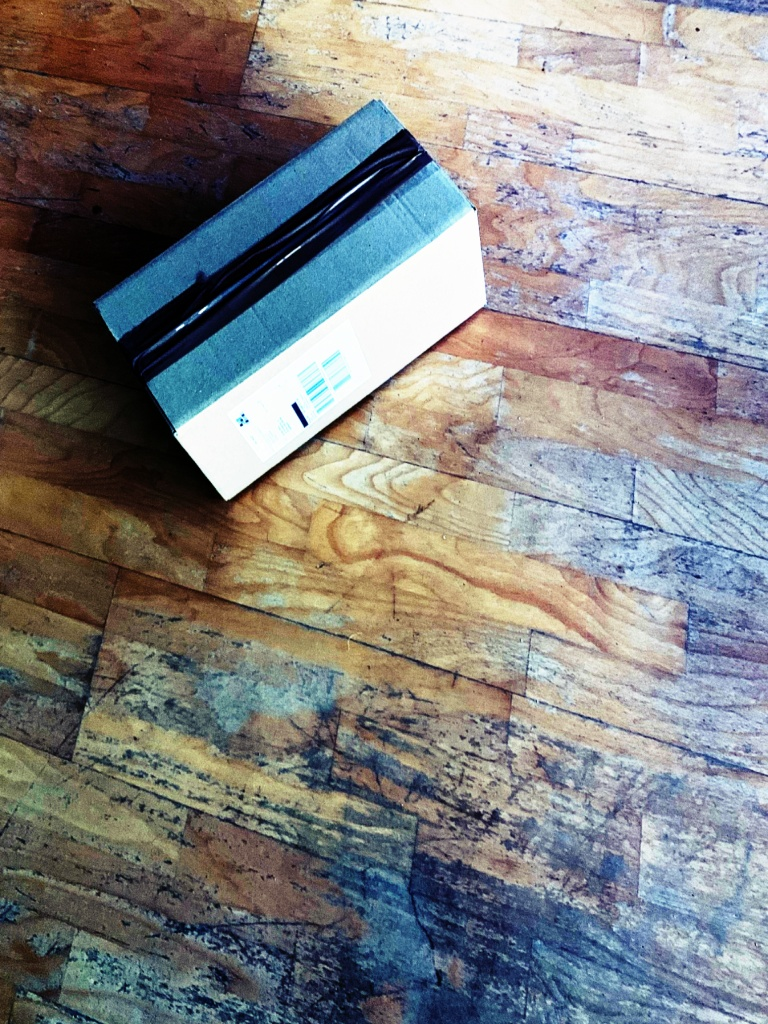good-parcel: (93, 96, 494, 514)
